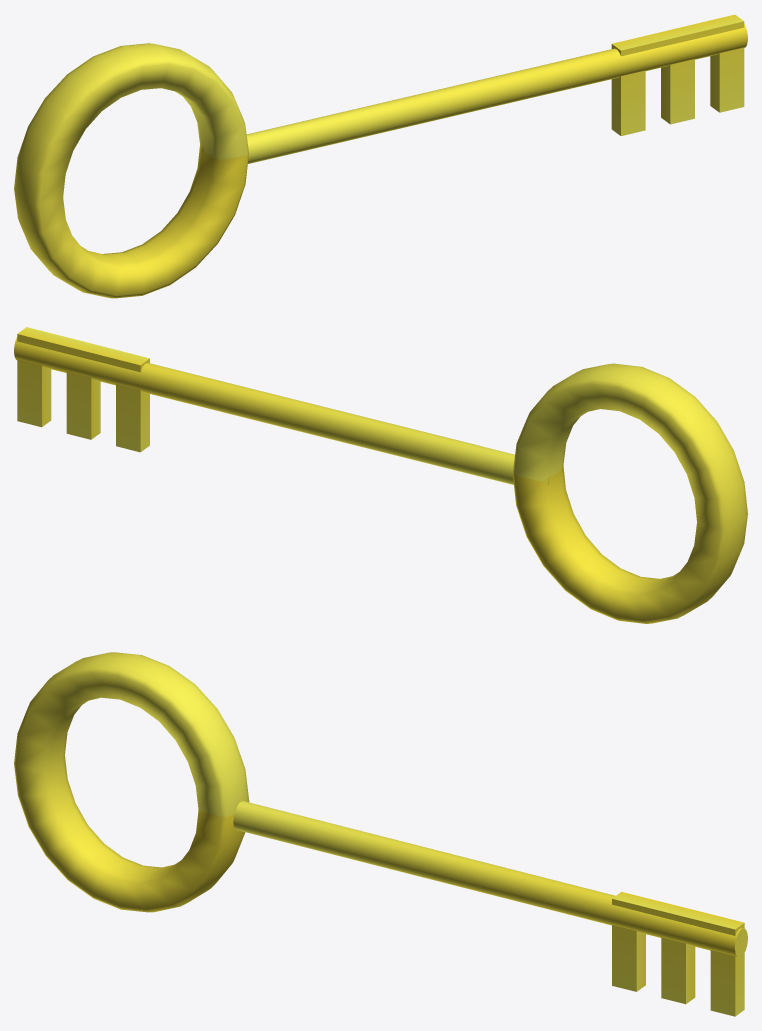
The model's file is cle_crybaby.fbx.
3 renders of one model, top to bottom at view 1: azimuth 30°, elevation 25°; view 2: azimuth 150°, elevation 25°; view 3: azimuth 330°, elevation 25°, orthographic.
Visible parts, largest first — view 1: Torus001; view 2: Torus001; view 3: Torus001.
Boxes of the visible parts, x1,y1,x2,y2 form: Torus001: (14, 14, 747, 298); Torus001: (14, 327, 747, 623); Torus001: (14, 652, 747, 1016).
Size of the model in its own units: 8.09 by 2.62 by 0.5298.
Materials: 1 (1 with a texture image).
